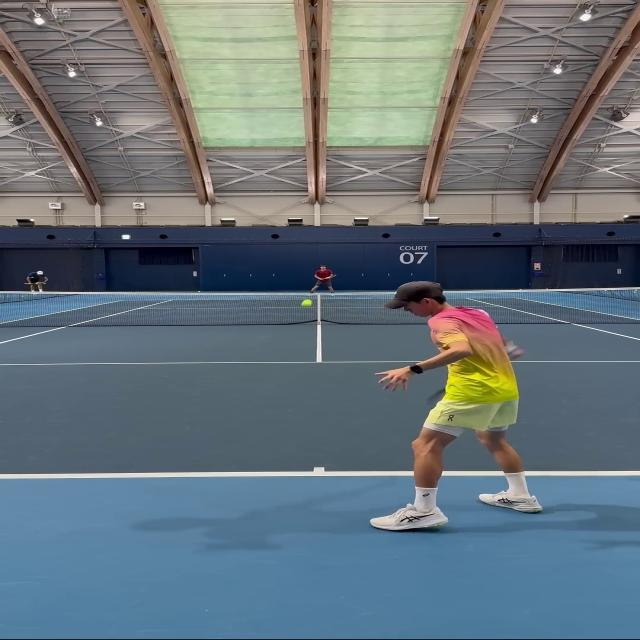tennis_ball: (304, 301, 311, 306)
